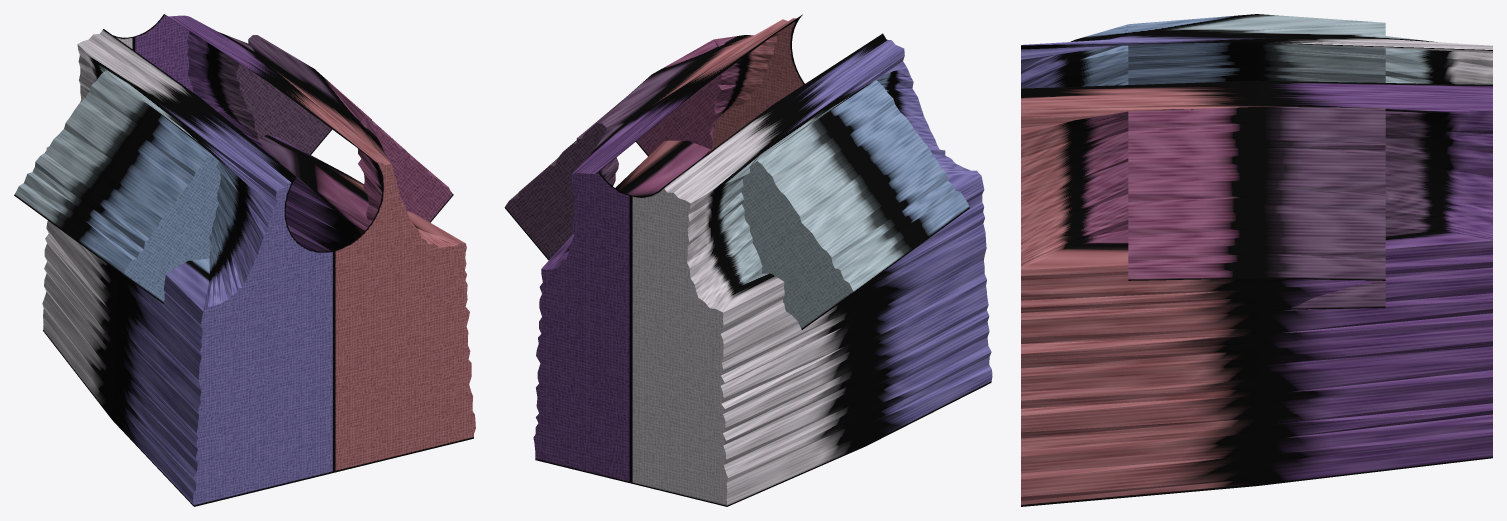
File: tee_long_f11_warp_boxmesh.obj
3 views of the same model, side by side, from view 1: azimuth 30°, elevation 25°; view 2: azimuth 150°, elevation 25°; view 3: azimuth 270°, elevation 25° (orthographic). The views are drawn at different scales.
Size of the model in its own units: 53.82 by 47.08 by 55.
1 material, 1 textured.
